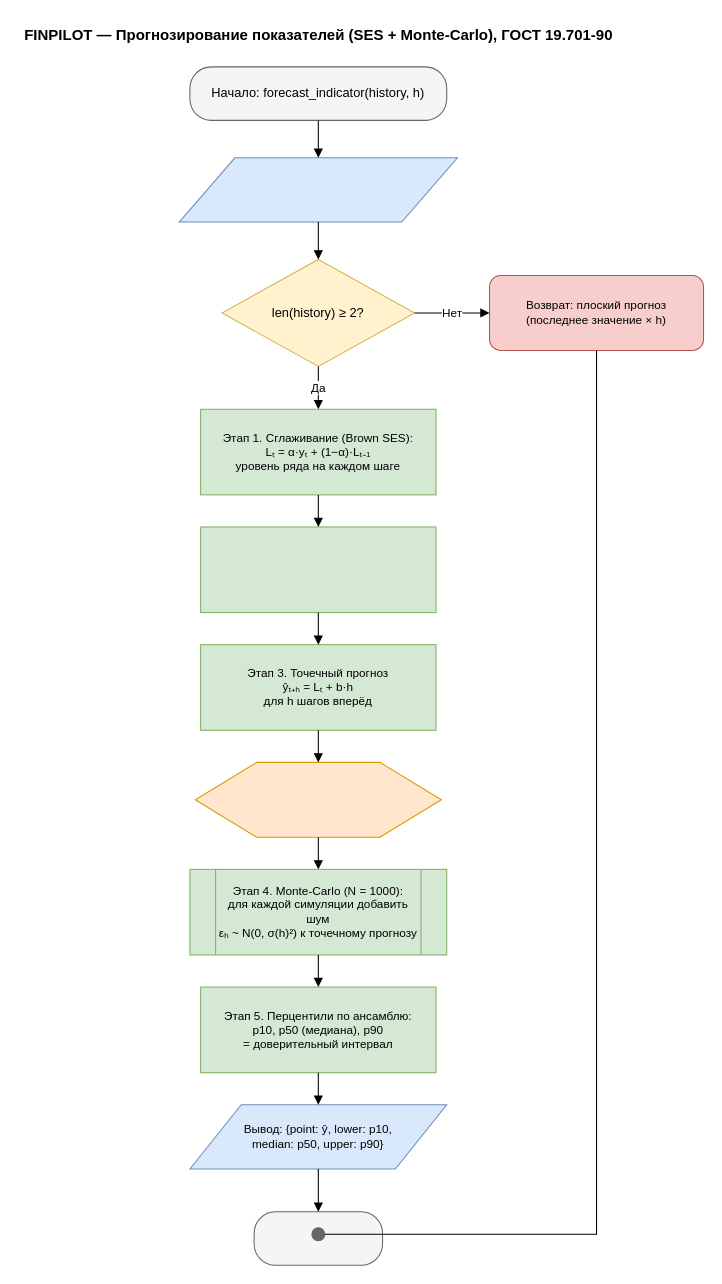
The diagram is 722 pixels wide and 1284 high, and some of its shapes have lost their labels. The shapes that lost their labels are listed below. From the top down, each one's box as (x1, y1, x2, y2) in pixels, then its label:
(178, 157, 457, 222): Ввод: ряд history, горизонт h, α = 0.3, N = 1000
(200, 526, 436, 613): Этап 2. Оценка тренда b по сглаженным уровням (линейная аппроксимация)
(194, 761, 441, 837): Подготовка: σ₀ = std(остатки), σ(h) = σ₀·√(1 + 0.5·h)
(253, 1211, 383, 1265): Конец
